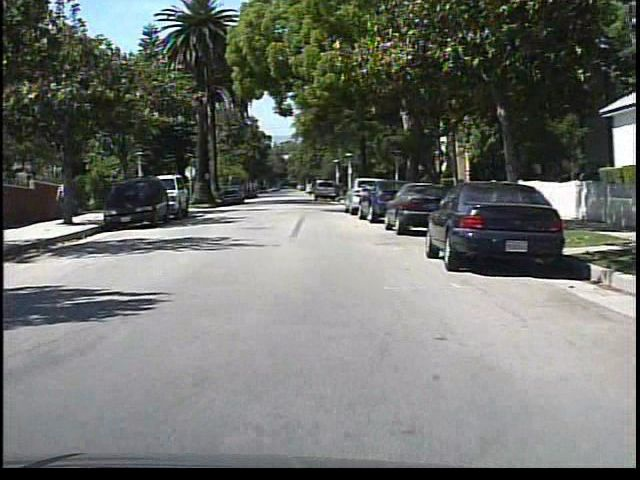person: (56, 177, 74, 222)
